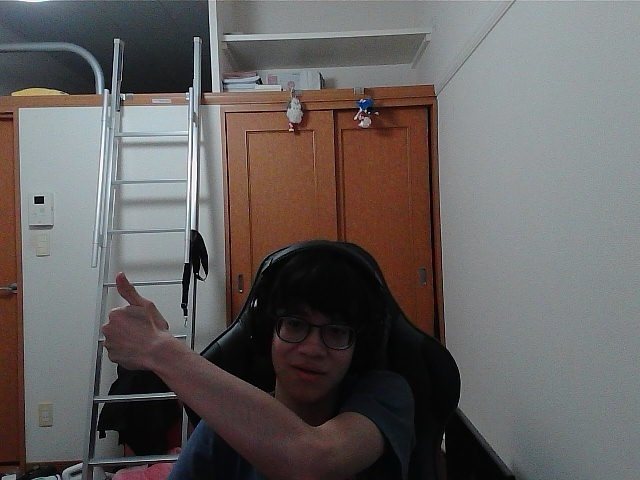thumb_up: (107, 275, 155, 358)
